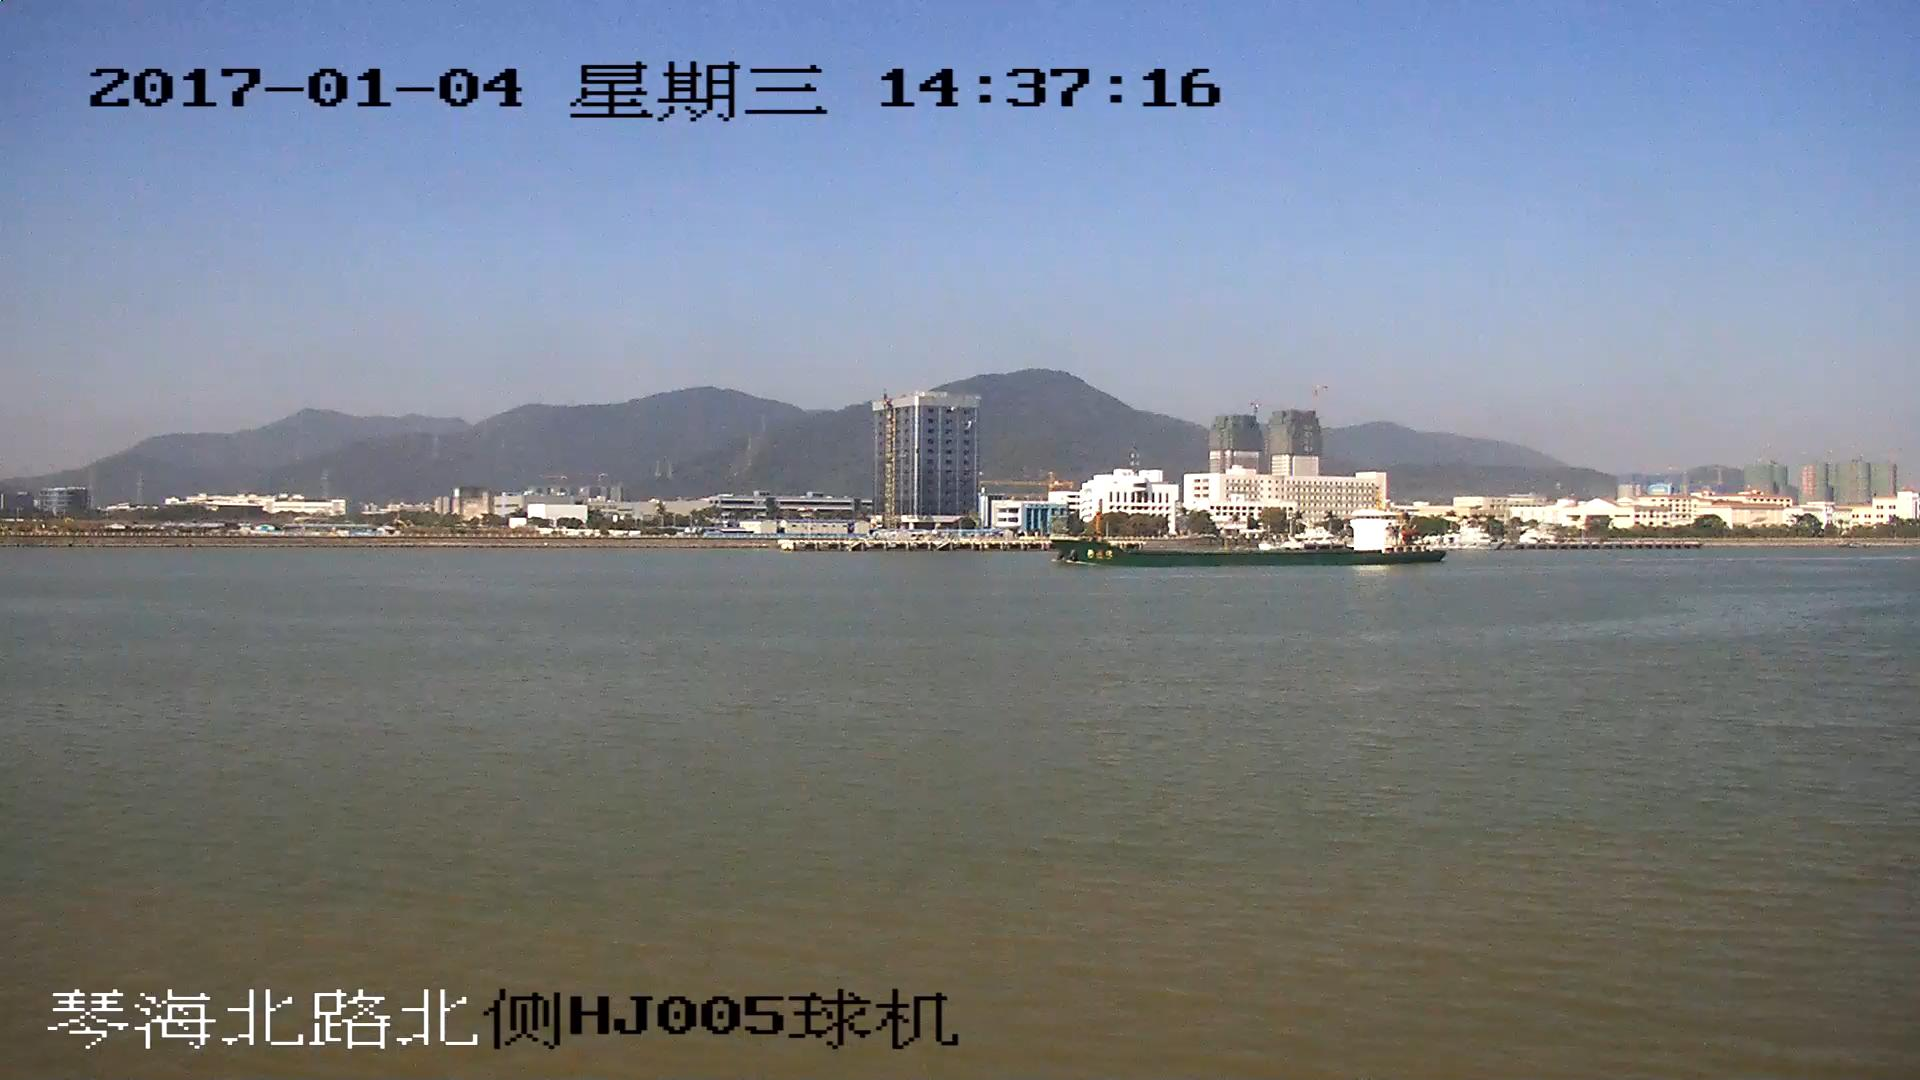general cargo ship: (1056, 503, 1447, 567)
